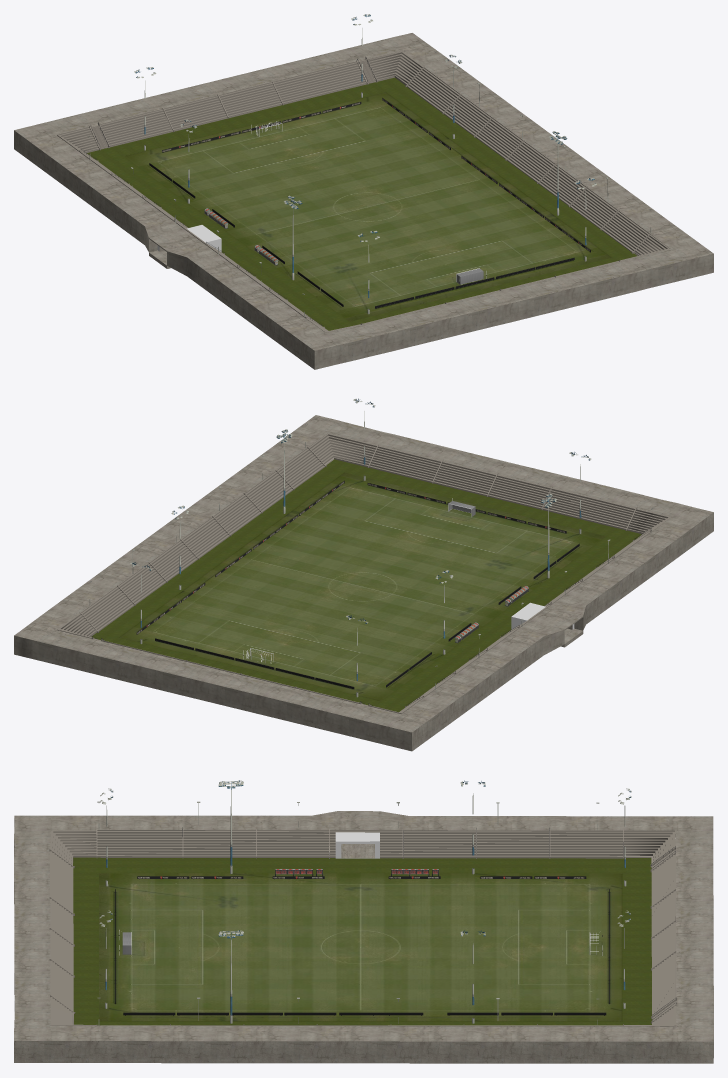
File: stadium.glb
The picture shows the model from 3 angles, top to bottom: view 1: azimuth 30°, elevation 25°; view 2: azimuth 150°, elevation 25°; view 3: azimuth 270°, elevation 25°; orthographic projection. The views are drawn at different scales.
Visible parts, largest first — view 1: field, outside, seats_1_2, field_2; view 2: field, outside, seats_1_2, field_2; view 3: field, outside, seats_1_2, field_2, Cube, Cube_1.
Part boxes in pixels (<box>): field: <box>124,92,611,321</box>; outside: <box>14,33,713,369</box>; seats_1_2: <box>57,50,670,332</box>; field_2: <box>87,77,636,330</box>; field: <box>119,472,605,701</box>; outside: <box>14,415,713,751</box>; seats_1_2: <box>57,432,671,713</box>; field_2: <box>91,459,641,712</box>; field: <box>99,873,622,1021</box>; outside: <box>14,811,713,1063</box>; seats_1_2: <box>49,828,676,1026</box>; field_2: <box>73,857,652,1025</box>; Cube: <box>335,832,379,858</box>; Cube_1: <box>341,844,374,858</box>.
Bounding box in the file's own units: 1313 × 263 × 1684.
17 materials, 15 textured.
